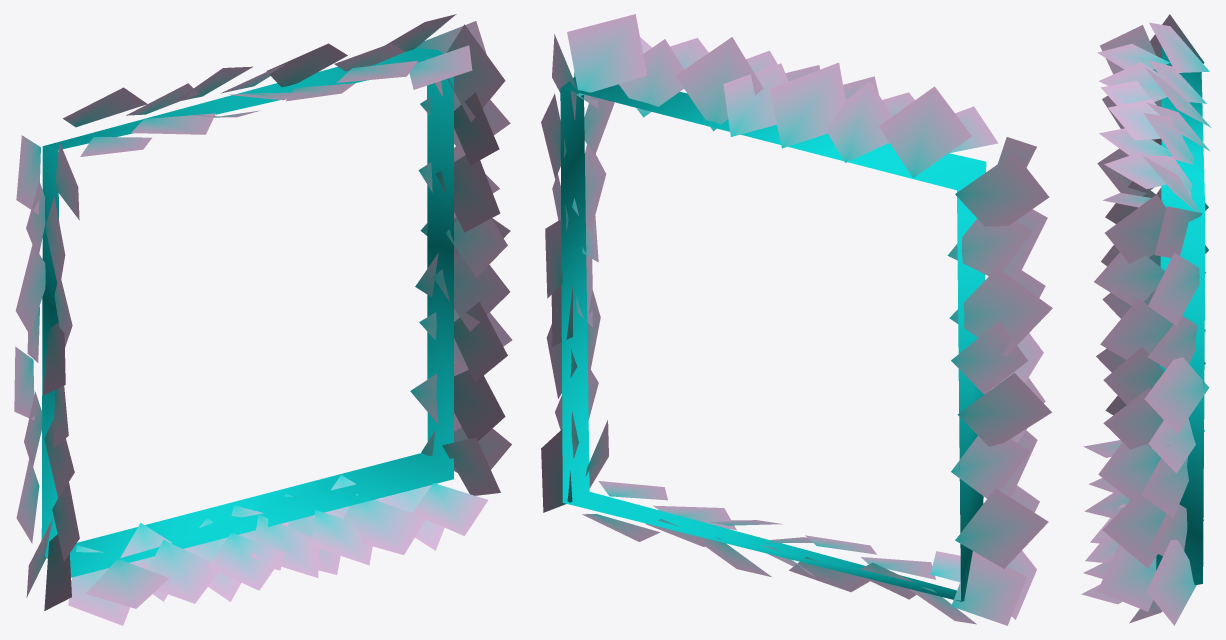
The model's file is Grass.dae.
The picture shows the model from 3 angles, left to right: view 1: azimuth 30°, elevation 25°; view 2: azimuth 150°, elevation 25°; view 3: azimuth 270°, elevation 25°; orthographic projection. The views are drawn at different scales.
Parts seen in each view (by area): view 1: Grass; view 2: Grass; view 3: Grass.
Part boxes in pixels (<box>): Grass: <box>14,14,512,625</box>; Grass: <box>541,14,1052,625</box>; Grass: <box>1081,14,1211,625</box>.
Size of the model in its own units: 0.7501 by 0.1912 by 0.7608.
